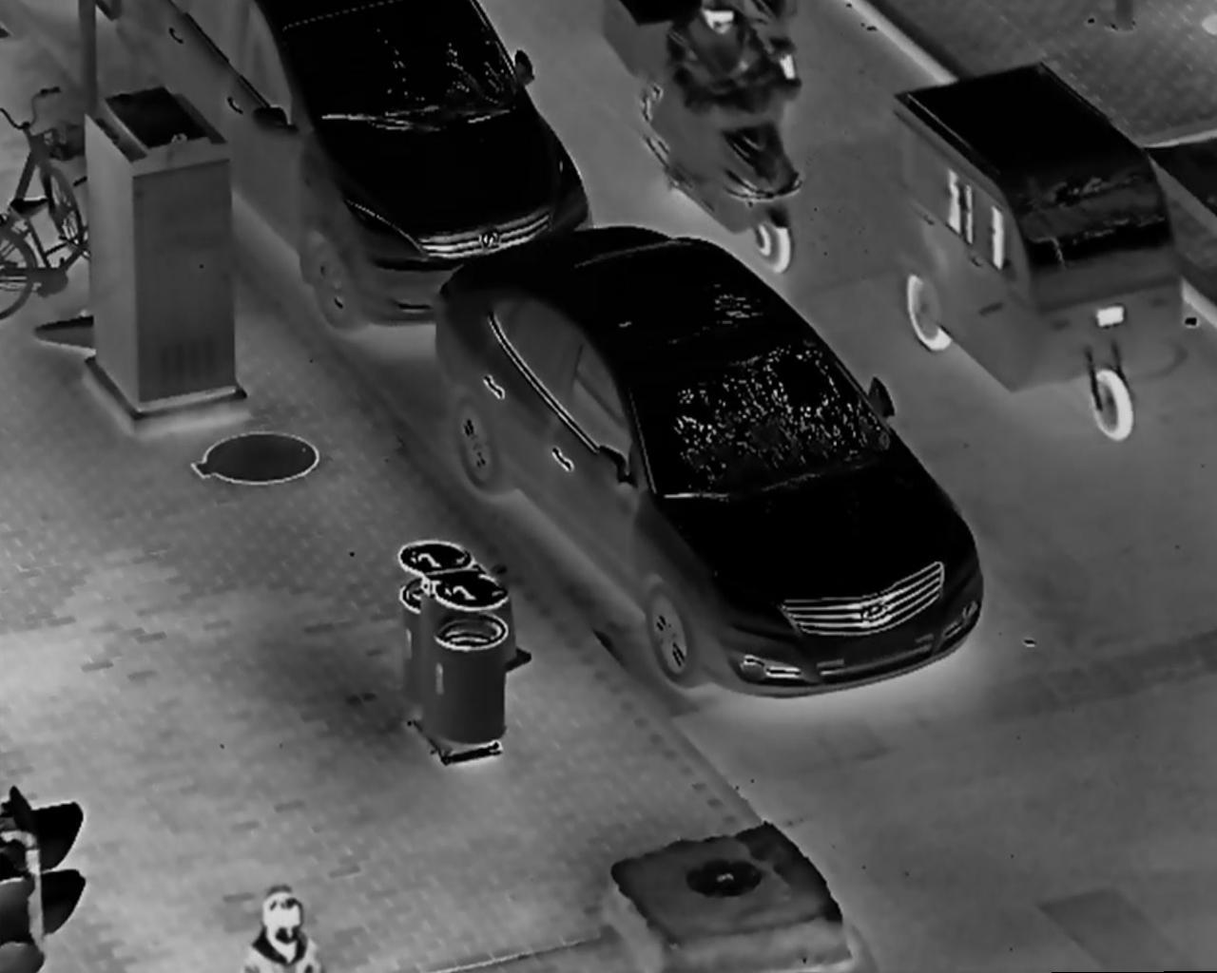person: (227, 881, 324, 973)
